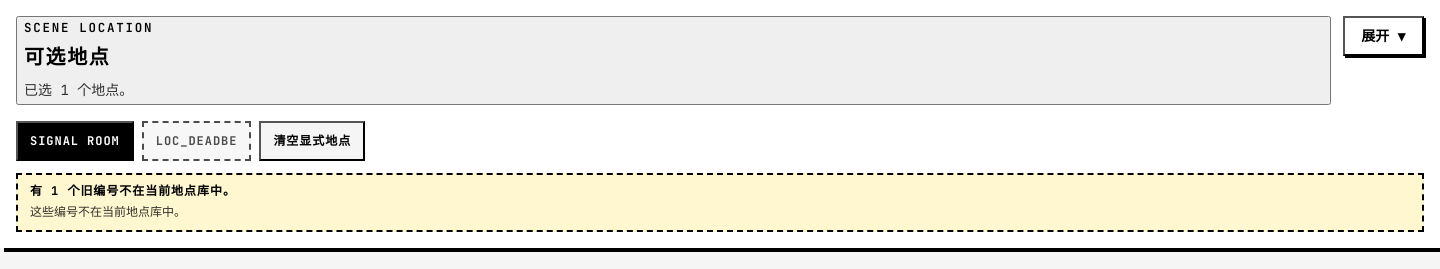
it: SceneLocationSelector › lets the author clear stale location ids in one step
The image size is (1440, 269).
Expected: the text "有 1 个旧编号不在当前地点库中。" is shown, [30,183,236,199]
Expected: the button with aria-label "失效地点编号 loc_deadbe" is disabled, [142,121,251,161]
Click the button "清空显式地点".
click(312, 141)  # box [259,121,365,161]
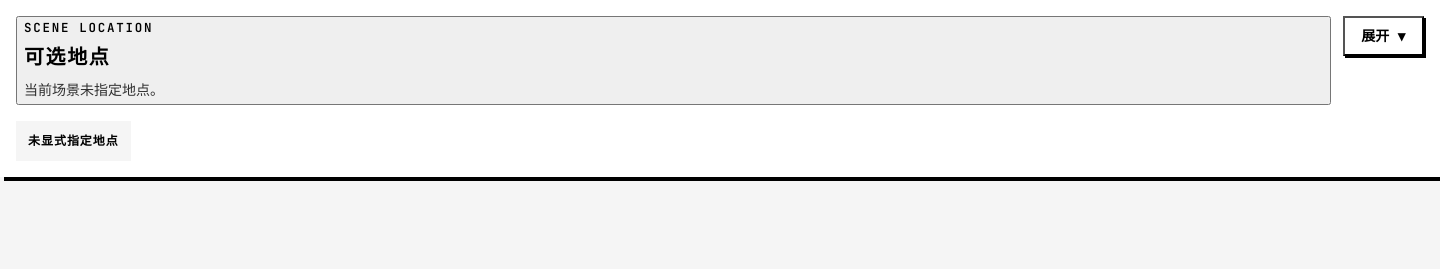
Result: the text "当前场景未指定地点。" is shown at [24,81,164,99]
Result: the text "有 1 个旧编号不在当前地点库中。" is gone
